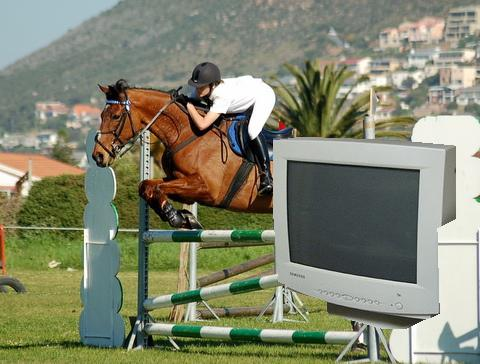tampered: (274, 138, 456, 329)
